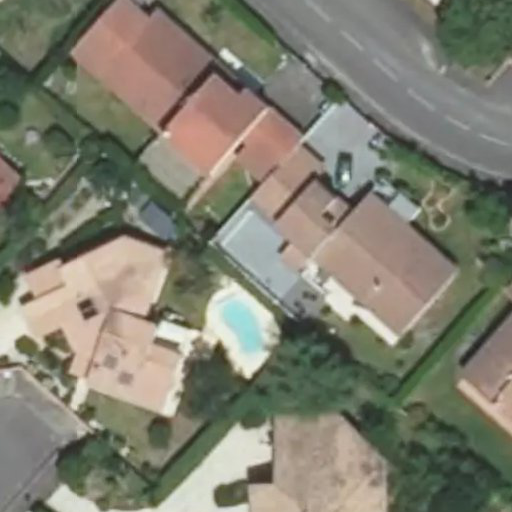pool: (224, 238, 287, 244)
